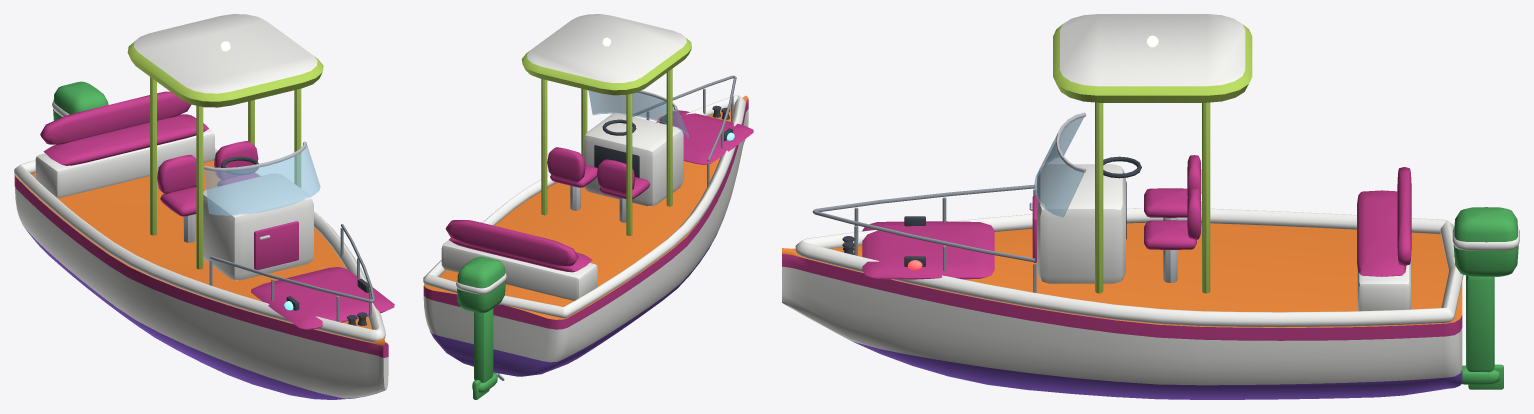
File: lancha_verde_limao.glb
The picture shows the model from 3 angles, left to right: view 1: azimuth 30°, elevation 25°; view 2: azimuth 150°, elevation 25°; view 3: azimuth 270°, elevation 25°; orthographic projection. The views are drawn at different scales.
Visible parts, largest first — view 1: lancha_verde_limao, porta_console; view 2: lancha_verde_limao; view 3: lancha_verde_limao.
Part boxes in pixels (box(x1,y1,x2,y2)): lancha_verde_limao: box(14, 14, 394, 399); porta_console: box(254, 221, 298, 269); lancha_verde_limao: box(423, 14, 753, 399); lancha_verde_limao: box(782, 14, 1519, 399).
Size of the model in its own units: 2.17 by 3.28 by 6.21.
Materials: 5 (1 with a texture image).
